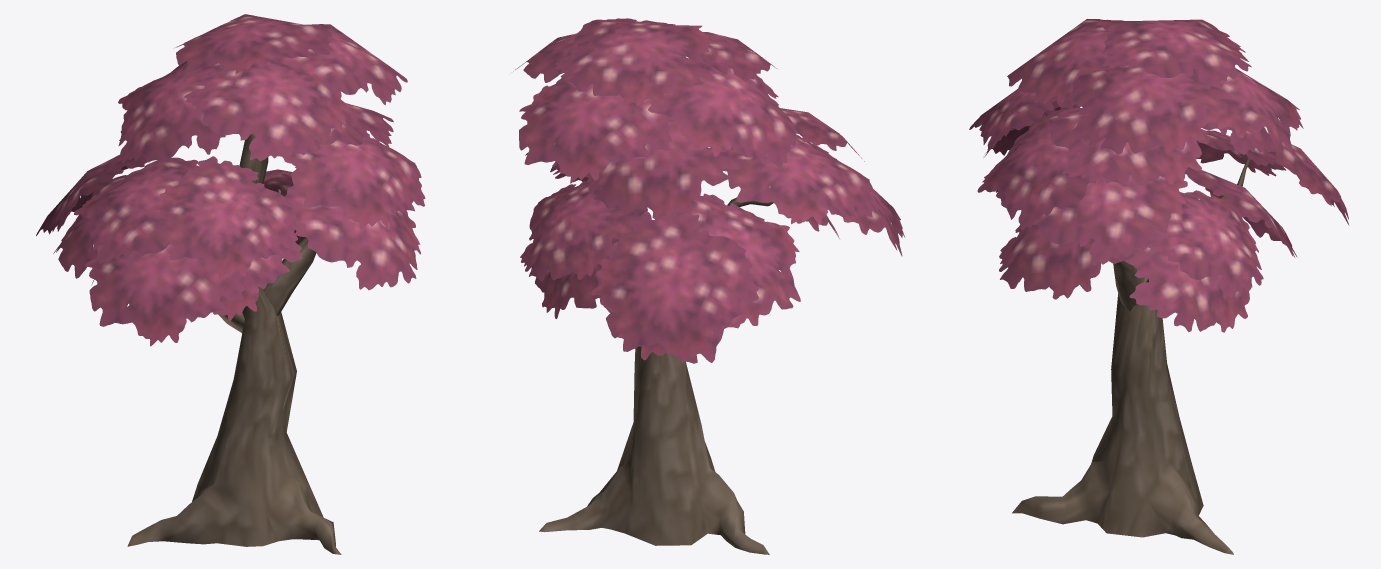
File: Tree_09.fbx
3 views of the same model, side by side, from view 1: azimuth 30°, elevation 25°; view 2: azimuth 150°, elevation 25°; view 3: azimuth 270°, elevation 25° (orthographic).
Parts seen in each view (by area): view 1: Tree_09; view 2: Tree_09; view 3: Tree_09.
Part boxes in pixels (box(x1,y1,x2,y2)): Tree_09: box(36, 14, 425, 554); Tree_09: box(513, 18, 904, 554); Tree_09: box(969, 19, 1349, 554).
Size of the model in its own units: 427 by 520 by 403.
Materials: 2 (2 with a texture image).
